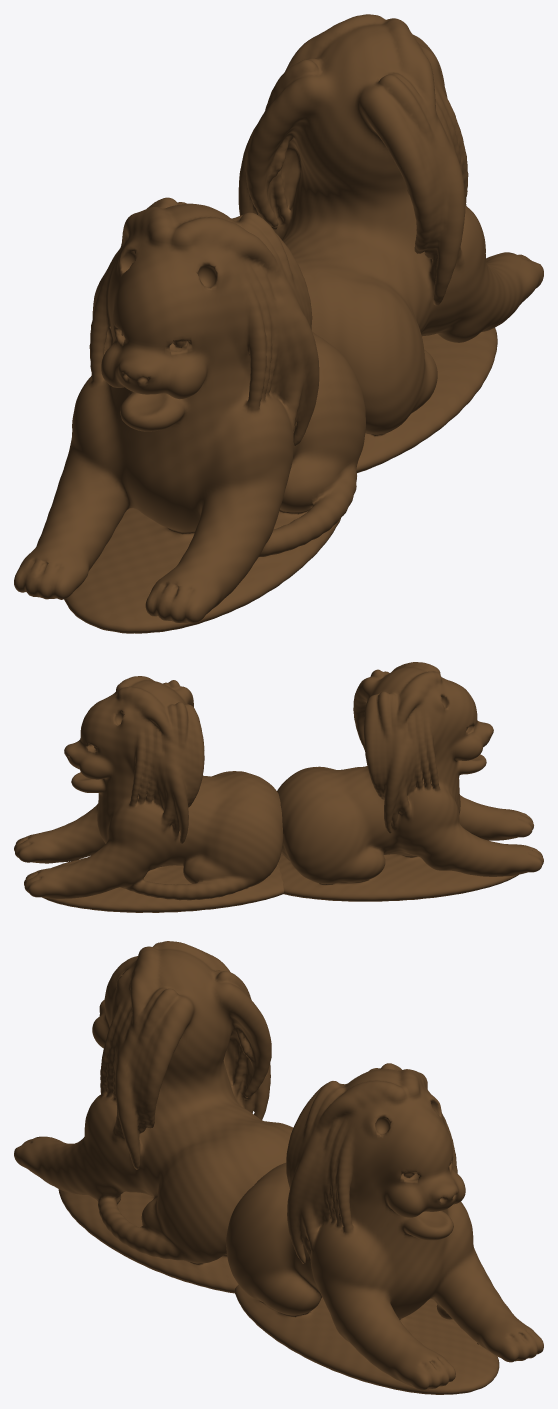
File: sculpture.obj
3 renders of one model, top to bottom at view 1: azimuth 30°, elevation 25°; view 2: azimuth 150°, elevation 25°; view 3: azimuth 270°, elevation 25°, orthographic. The views are drawn at different scales.
Parts seen in each view (by area): view 1: reclining_lions; view 2: reclining_lions; view 3: reclining_lions.
Boxes of the visible parts, x1,y1,x2,y2 form: reclining_lions: (14, 14, 543, 633); reclining_lions: (14, 662, 543, 912); reclining_lions: (14, 941, 543, 1394).
Size of the model in its own units: 51.44 by 25.14 by 42.78.
